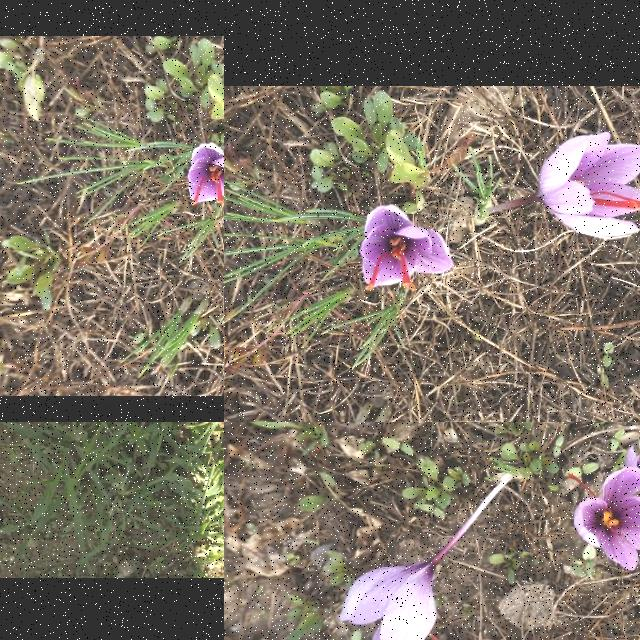flower: (538, 132, 640, 241), (338, 564, 446, 640), (362, 205, 454, 292), (567, 467, 640, 571), (187, 142, 224, 205), (624, 443, 640, 495)
